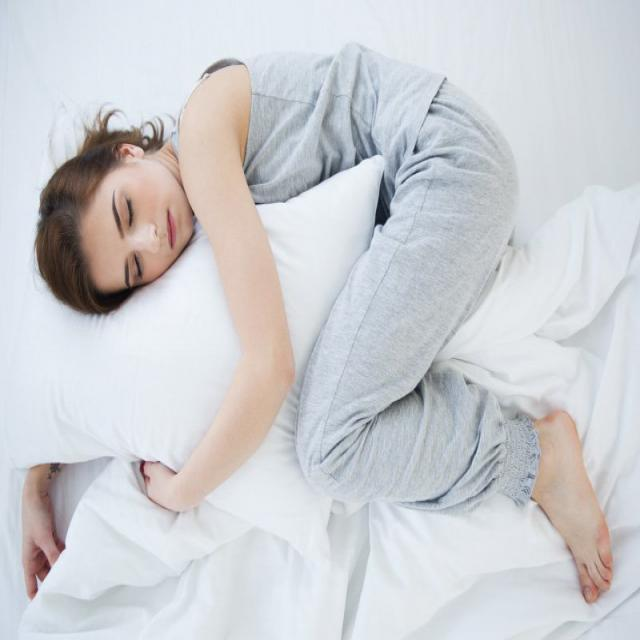people: (15, 36, 618, 621), (27, 38, 62, 71)
